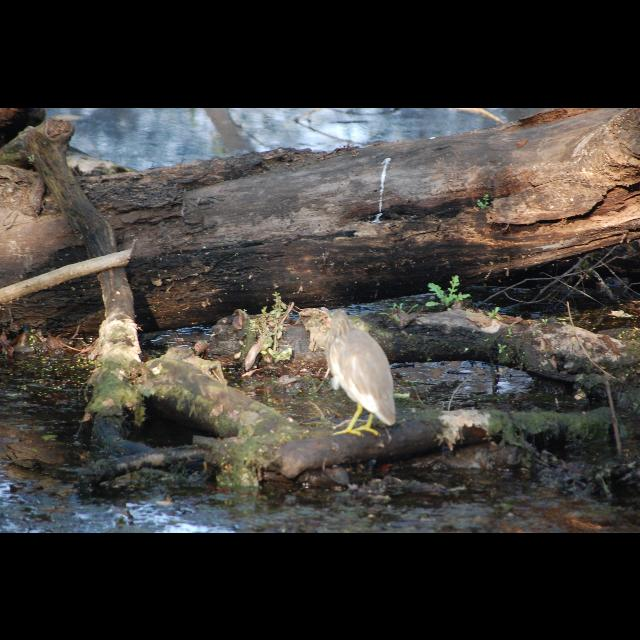heron: (323, 308, 399, 437)
